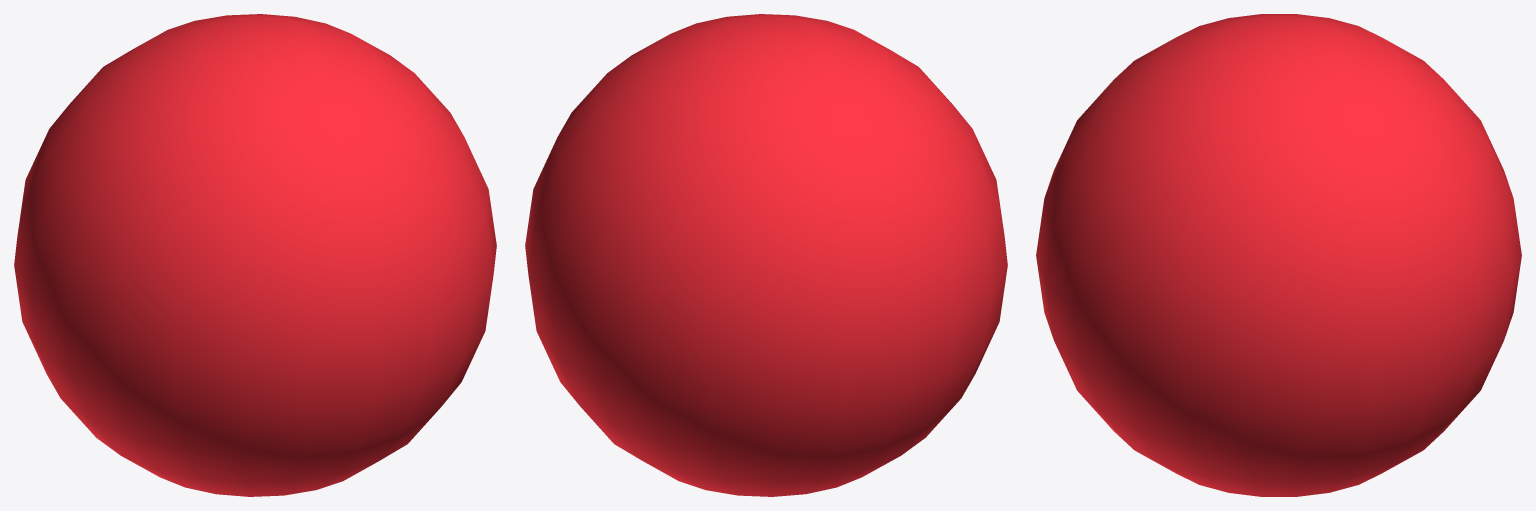
The model's file is neutron.glb.
The picture shows the model from 3 angles, left to right: view 1: azimuth 30°, elevation 25°; view 2: azimuth 150°, elevation 25°; view 3: azimuth 270°, elevation 25°; orthographic projection.
Parts seen in each view (by area): view 1: Sphere; view 2: Sphere; view 3: Sphere.
Part boxes in pixels (x1,y1,x2,y2): Sphere: [14, 14, 496, 496]; Sphere: [525, 14, 1007, 496]; Sphere: [1036, 14, 1521, 496].
Size of the model in its own units: 1.98 by 2 by 2.
